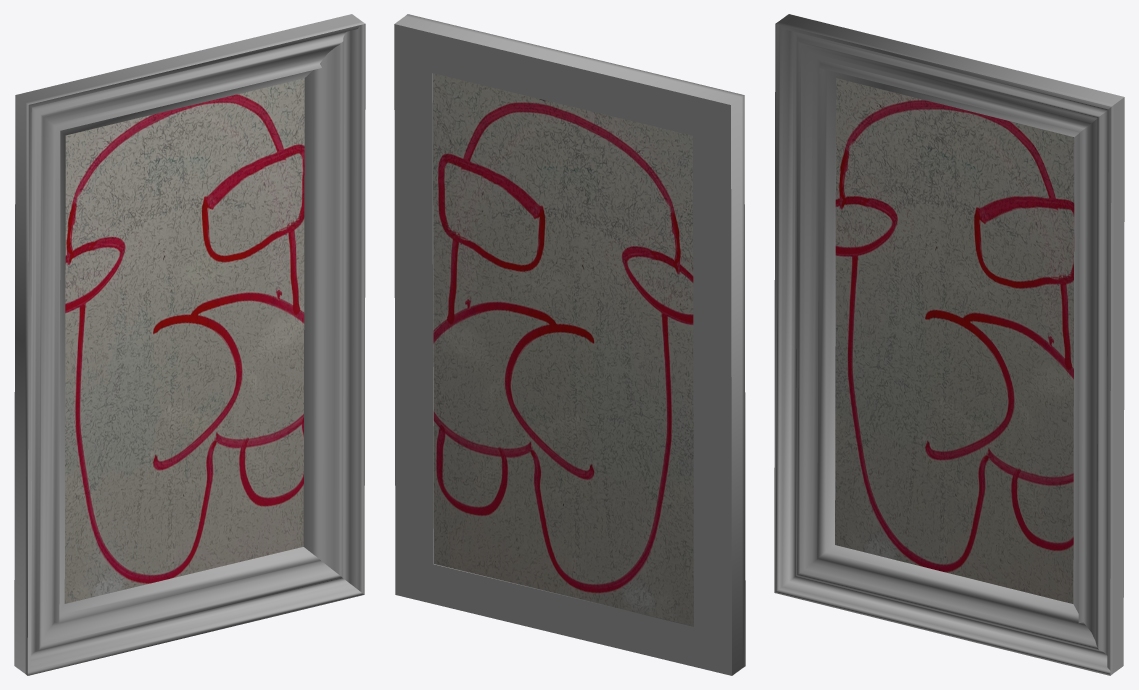
File: AmongButt.fbx
The picture shows the model from 3 angles, left to right: view 1: azimuth 30°, elevation 25°; view 2: azimuth 150°, elevation 25°; view 3: azimuth 330°, elevation 25°; orthographic projection.
Parts seen in each view (by area): view 1: pasted__pPlane2, pasted__pasted__loftedSurface4; view 2: pasted__pPlane2, pasted__pasted__loftedSurface4; view 3: pasted__pPlane2, pasted__pasted__loftedSurface4.
Part boxes in pixels (<box>): pasted__pPlane2: <box>64,78,304,603</box>; pasted__pasted__loftedSurface4: <box>14,14,365,675</box>; pasted__pPlane2: <box>433,73,693,626</box>; pasted__pasted__loftedSurface4: <box>394,14,745,675</box>; pasted__pPlane2: <box>835,78,1074,603</box>; pasted__pasted__loftedSurface4: <box>774,14,1124,675</box>.
Bounding box in the file's own units: 20.51 × 33.17 × 1.42.
